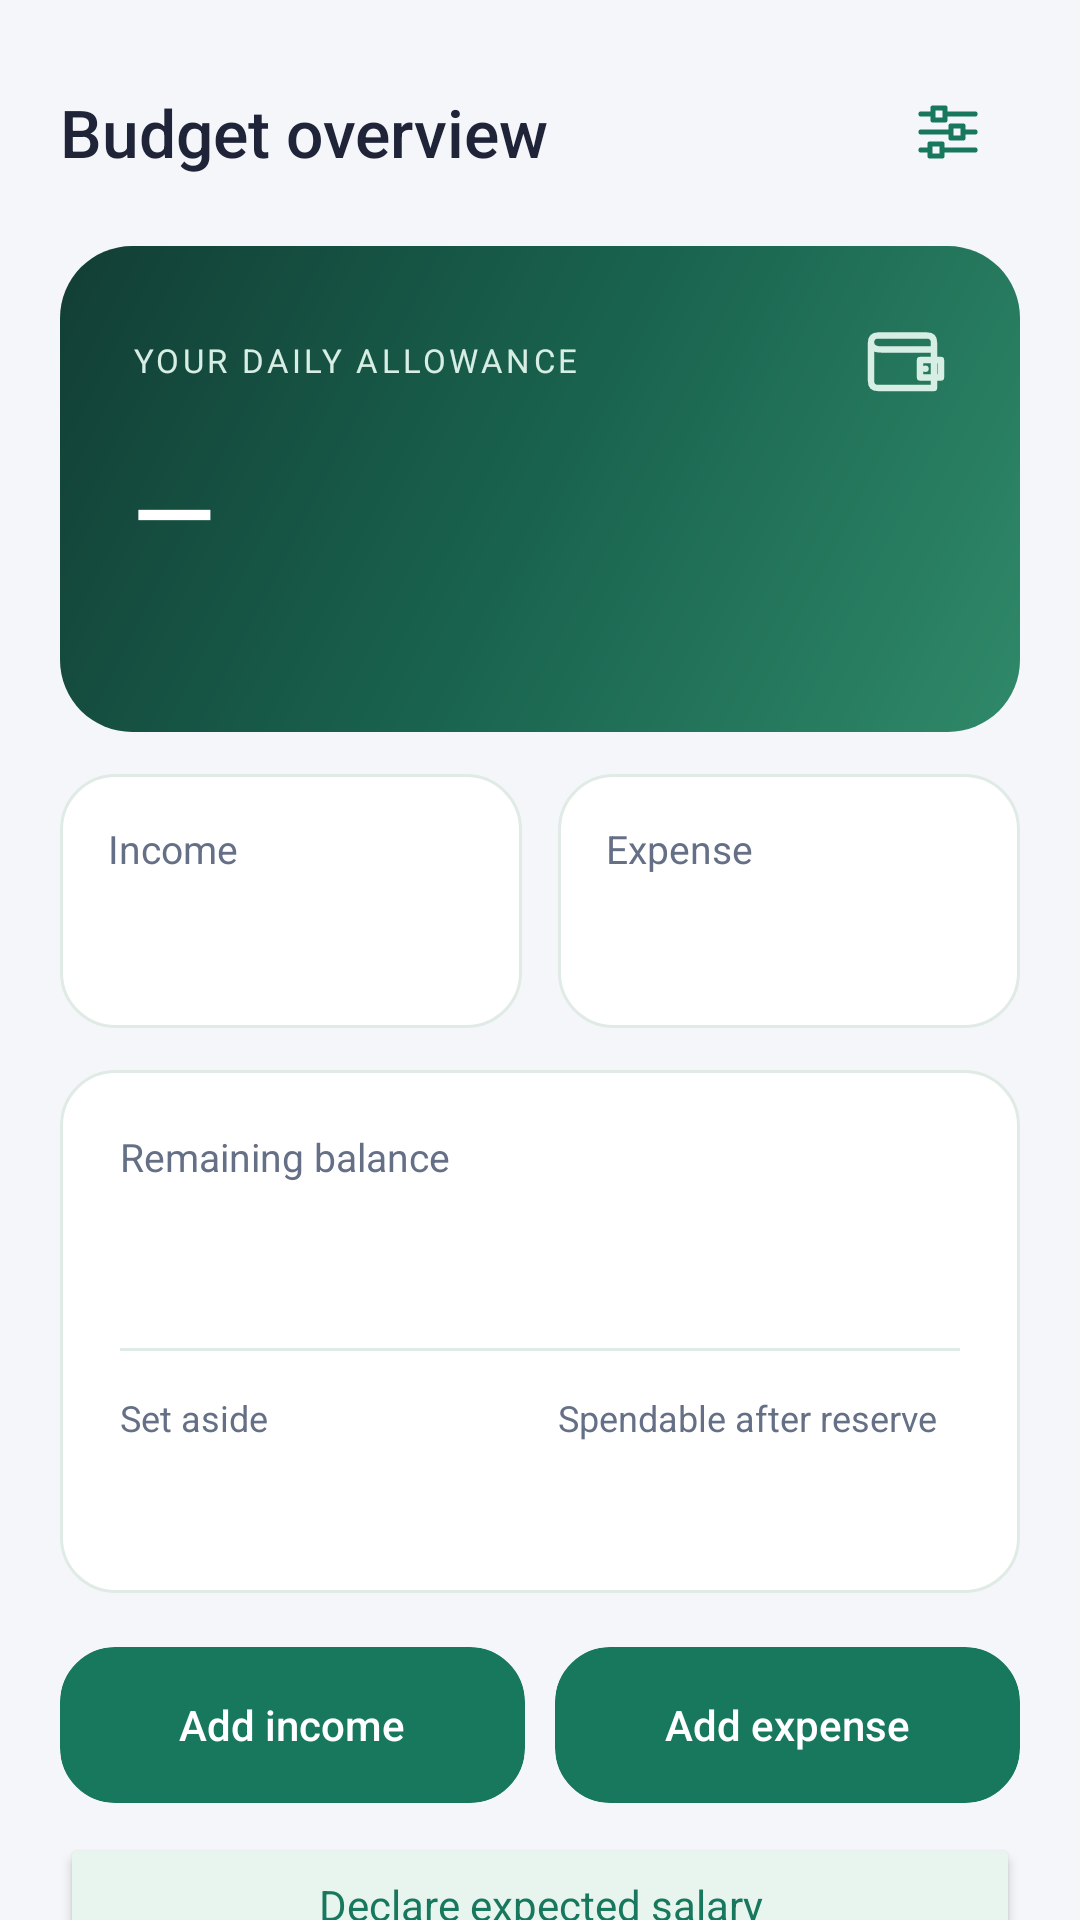

Icons on this 1080 x 1920 Android screen, each with the point to tap as (x,y):
Budget settings: (948,132)
workspace allowance: (906,362)
